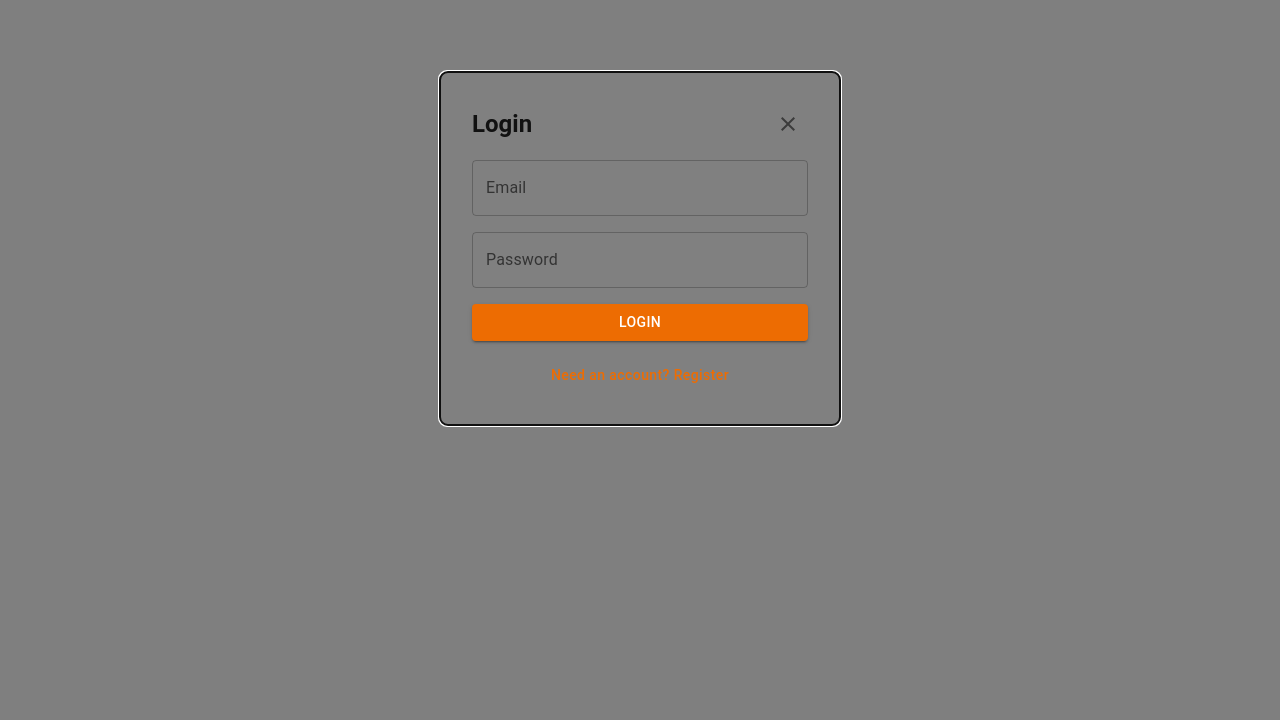
Test case: AuthModal › shows validation error if submitting empty register form
Click the button "Need an account? Register": (640, 375) [472,356,808,393]
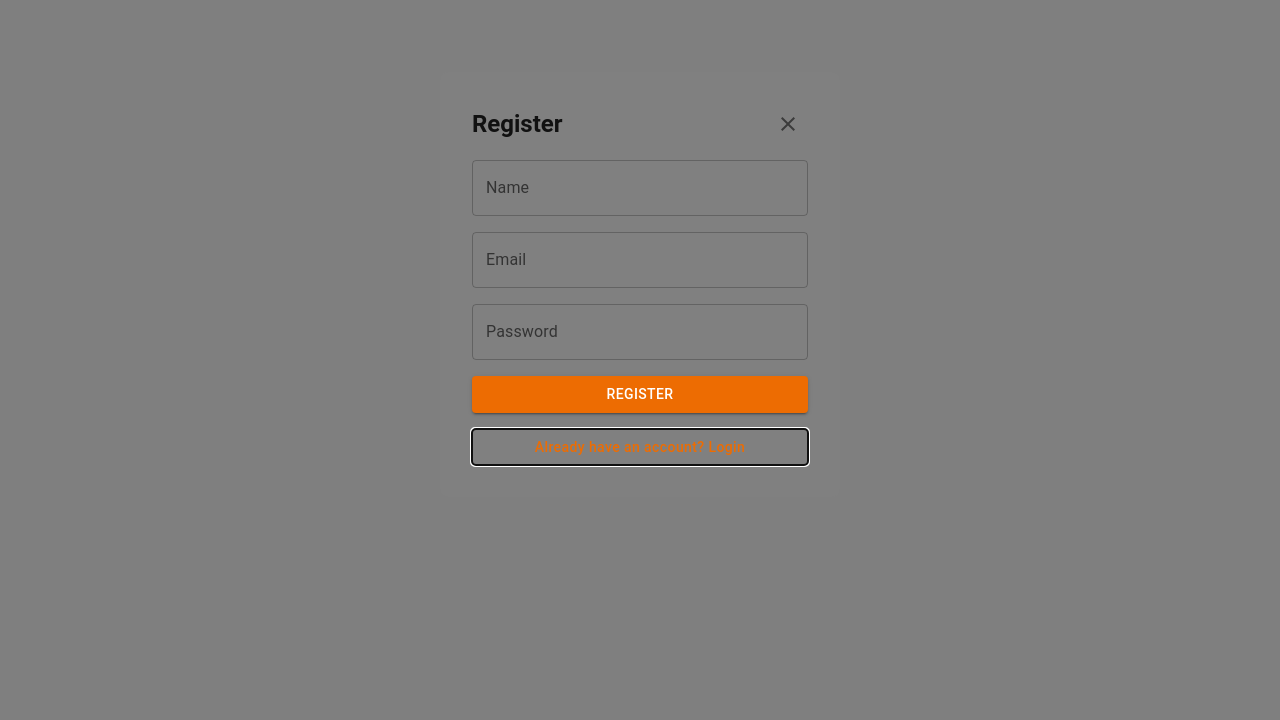
Click the button "Register": (640, 394) [472,376,808,412]
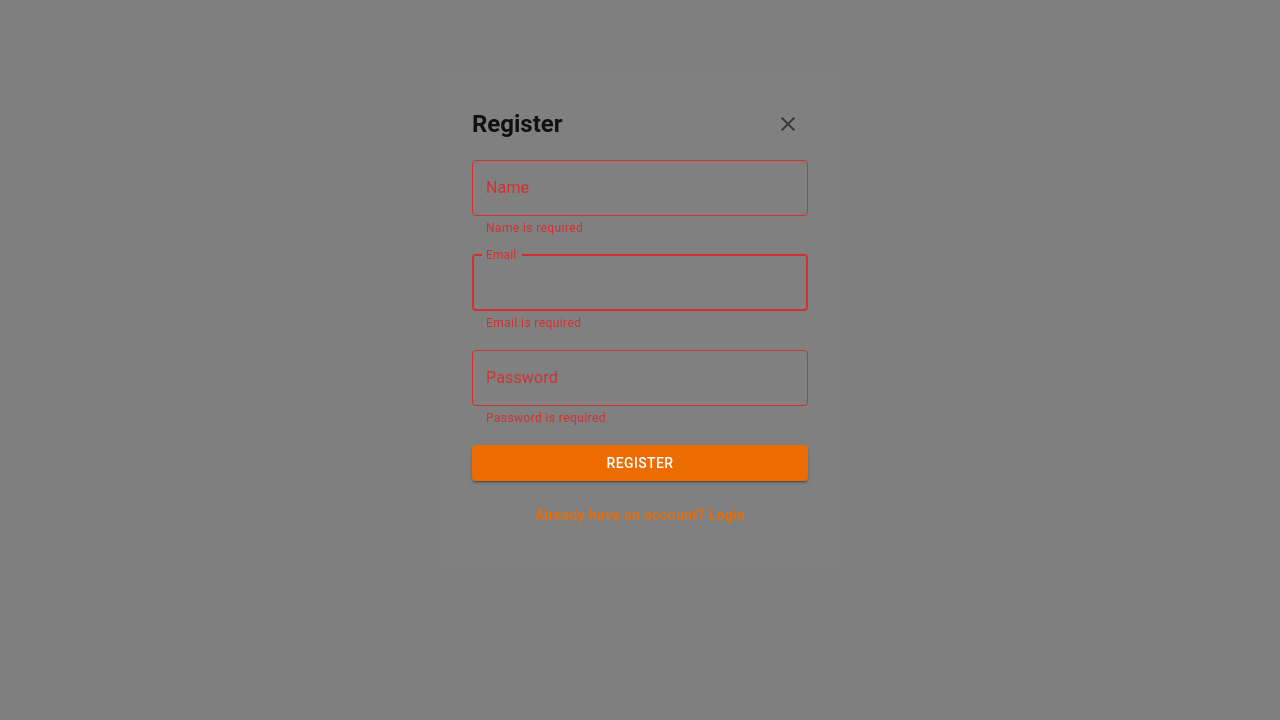
Check: the text "Email is required" is shown, box [486,316,581,330]
Check: the text "Password is required" is shown, box [486,411,606,425]
Check: the text "Name is required" is shown, box [486,221,583,235]
